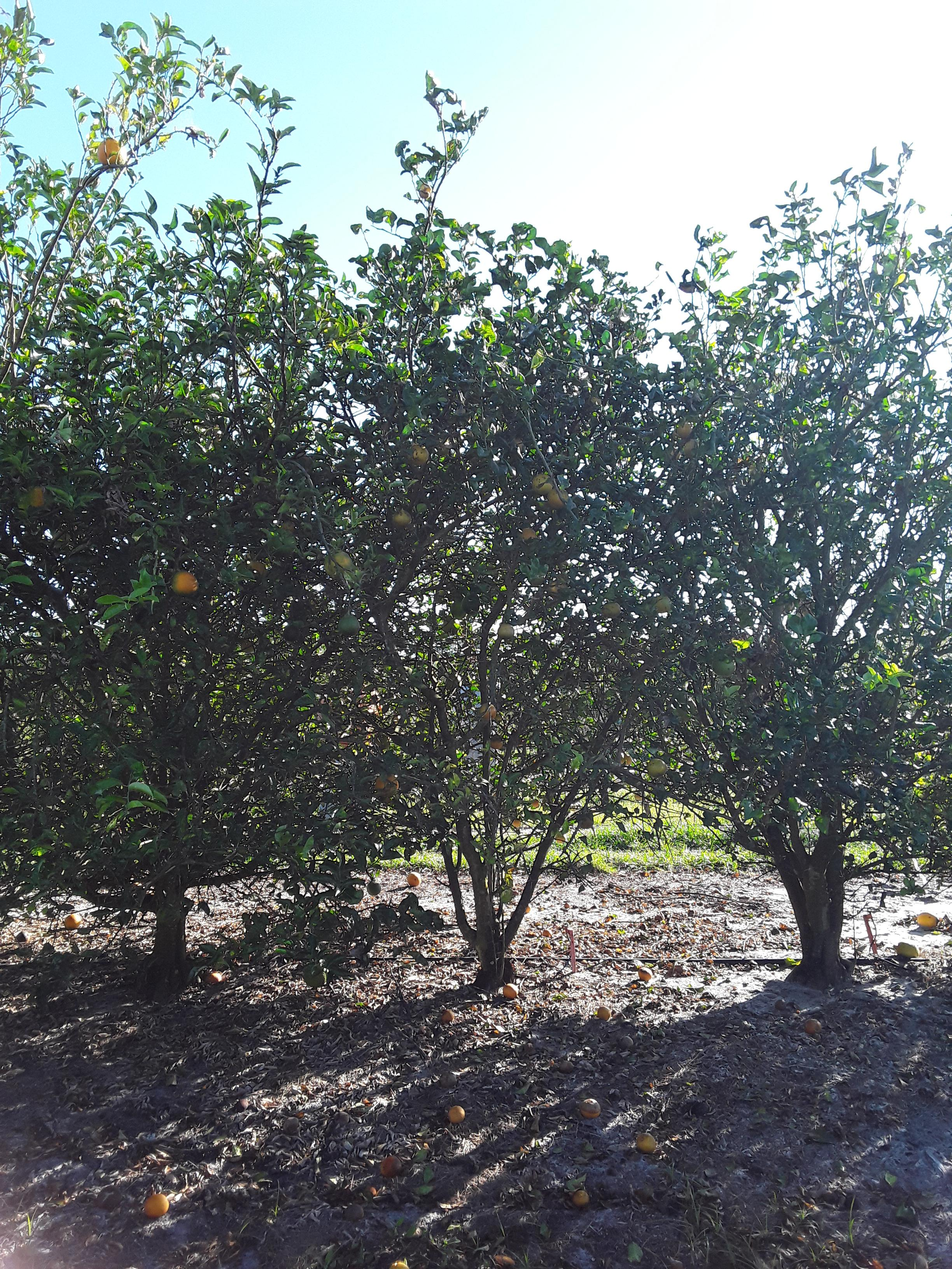fruit_on_ground: (95, 134, 128, 173), (322, 547, 359, 581), (369, 771, 404, 798), (407, 442, 434, 470), (242, 555, 268, 583), (300, 965, 329, 990), (174, 571, 197, 602), (390, 505, 416, 532), (274, 516, 301, 542), (713, 654, 740, 679), (579, 389, 607, 413), (545, 488, 569, 516), (647, 594, 676, 617), (460, 589, 485, 614), (338, 614, 363, 639), (547, 580, 573, 603), (659, 444, 687, 465), (28, 485, 49, 512), (506, 434, 528, 459), (497, 620, 520, 643), (683, 439, 708, 460), (448, 598, 469, 622), (281, 622, 305, 643), (674, 417, 694, 440), (519, 525, 539, 548), (532, 472, 551, 496), (646, 757, 668, 777), (271, 431, 291, 452), (486, 733, 507, 752), (441, 615, 459, 637), (309, 369, 328, 389), (446, 673, 464, 694), (602, 602, 622, 620), (418, 180, 435, 201), (239, 638, 259, 655), (482, 701, 499, 721), (528, 794, 543, 813), (262, 355, 277, 372), (434, 589, 450, 604), (621, 751, 635, 768), (509, 813, 523, 830), (554, 827, 568, 844)
fruit_on_tree: (142, 1189, 170, 1225), (634, 1130, 660, 1159), (378, 1154, 405, 1180), (578, 1097, 604, 1122), (894, 939, 922, 961), (686, 1099, 713, 1121), (570, 1189, 595, 1212), (915, 911, 941, 932), (489, 1253, 523, 1269), (446, 1101, 466, 1126), (200, 967, 226, 986), (500, 981, 523, 1001), (343, 1203, 367, 1222), (283, 1116, 303, 1138), (328, 1110, 351, 1129), (438, 1070, 459, 1090), (63, 911, 82, 932), (802, 1017, 821, 1038), (359, 1183, 380, 1202), (387, 1255, 411, 1269), (405, 870, 423, 888), (557, 1059, 576, 1076), (596, 1005, 612, 1024), (439, 1007, 454, 1027), (618, 1034, 635, 1051), (366, 879, 382, 896), (637, 967, 654, 983), (541, 927, 556, 940), (522, 902, 533, 914), (564, 900, 572, 910)
